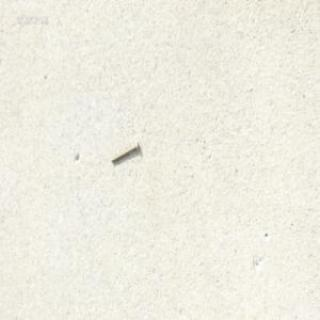Bolttrack_idkeyframe: (109, 139, 138, 163)
